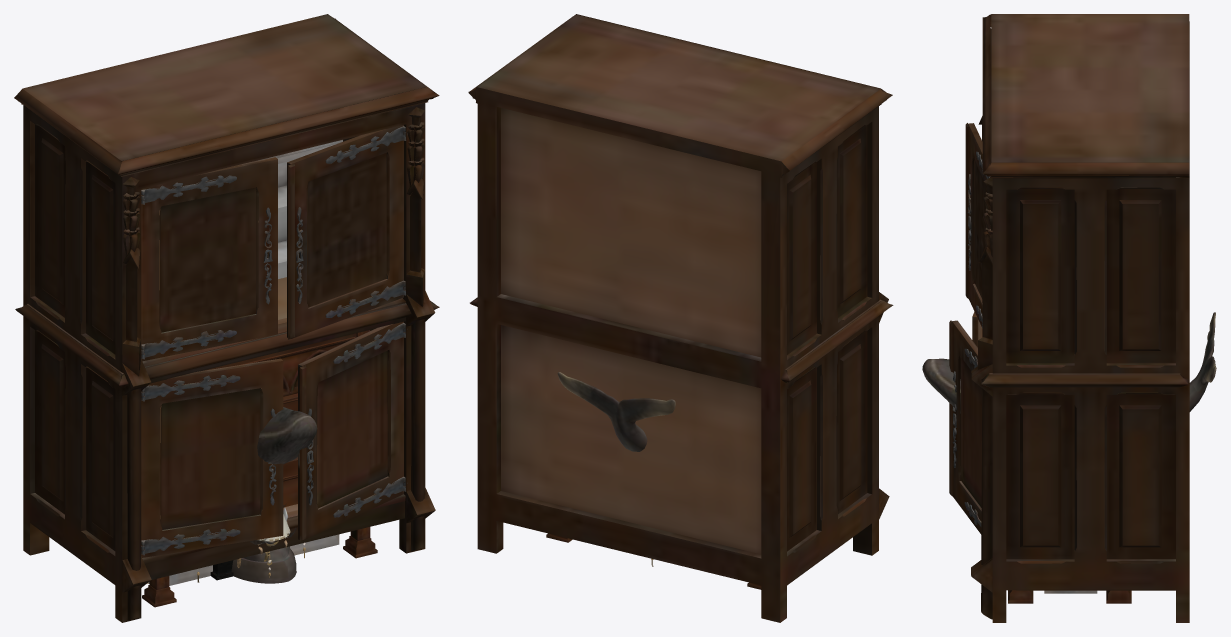
Rendered from ph_mosque.glb.
3 renders of one model, left to right at view 1: azimuth 30°, elevation 25°; view 2: azimuth 150°, elevation 25°; view 3: azimuth 270°, elevation 25°, orthographic.
Parts seen in each view (by area): view 1: GothicCabinet_01, bronze_whale_statue, GothicCommode_01, Shelf_01; view 2: GothicCabinet_01, bronze_whale_statue; view 3: GothicCabinet_01, bronze_whale_statue, GothicCommode_01.
Boxes of the visible parts, x1=… form: GothicCabinet_01: x1=14, y1=14, x2=439, y2=622; bronze_whale_statue: x1=231, y1=407, x2=317, y2=583; GothicCommode_01: x1=142, y1=330, x2=377, y2=607; Shelf_01: x1=148, y1=140, x2=342, y2=585; GothicCabinet_01: x1=468, y1=14, x2=893, y2=622; bronze_whale_statue: x1=557, y1=372, x2=675, y2=451; GothicCabinet_01: x1=949, y1=14, x2=1189, y2=622; bronze_whale_statue: x1=922, y1=312, x2=1216, y2=413; GothicCommode_01: x1=1008, y1=590, x2=1131, y2=603.
Size of the model in its own units: 1.72 by 2.36 by 1.37.
Materials: 39 (37 with a texture image).
